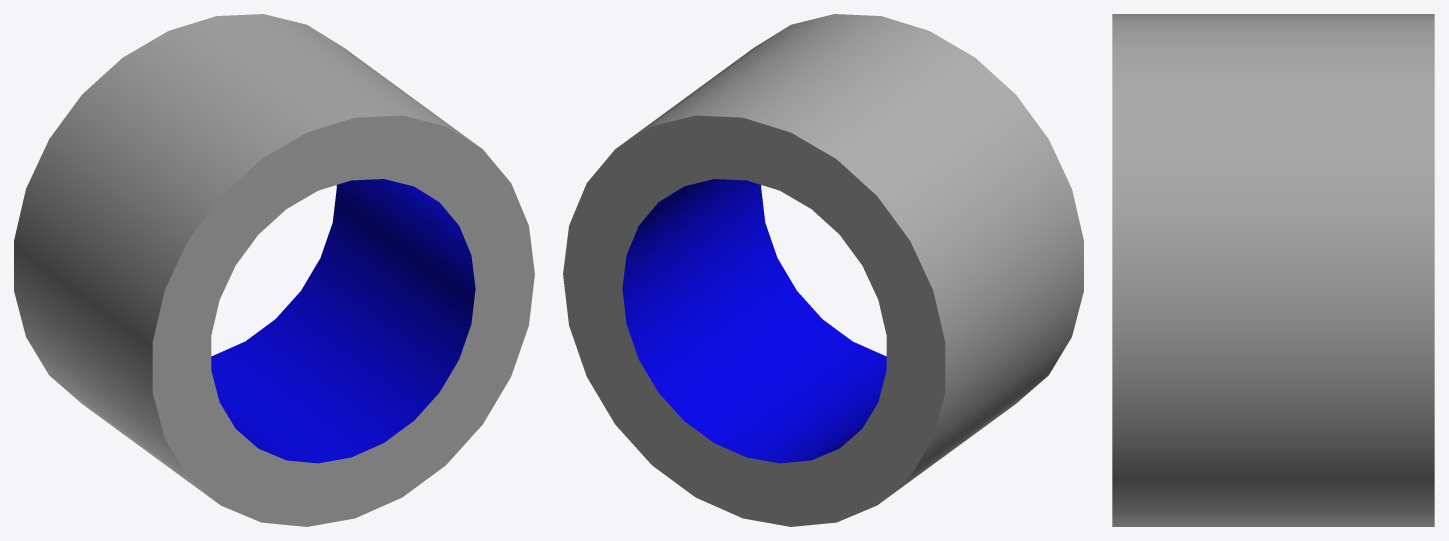
Rendered from Wide_Ring_Big.fbx.
3 views of the same model, side by side, from view 1: azimuth 30°, elevation 25°; view 2: azimuth 150°, elevation 25°; view 3: azimuth 270°, elevation 25° (orthographic). The views are drawn at different scales.
Parts seen in each view (by area): view 1: pasted__RingBig; view 2: pasted__RingBig; view 3: pasted__RingBig.
Boxes of the visible parts, x1,y1,x2,y2 form: pasted__RingBig: (14,14,534,526); pasted__RingBig: (563,14,1083,526); pasted__RingBig: (1112,14,1434,526).
Bounding box in the file's own units: 2.47 × 2.47 × 1.55.
